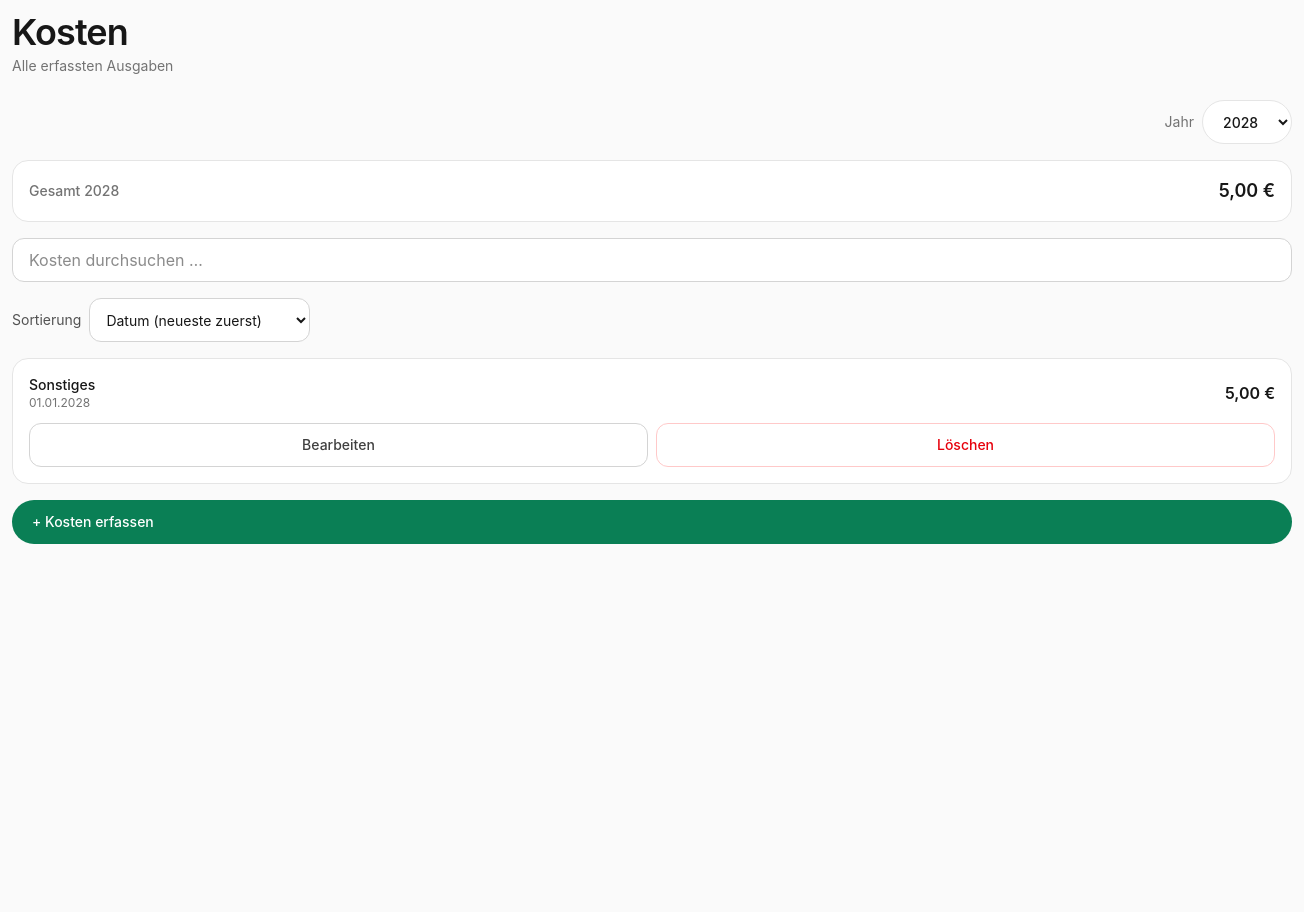
Test: CostsPage › shows a dedicated empty state for a year with no entries, distinct from the no-data-at-all state
Select "2028" in the dropdown labelled "Jahr": [1247, 122] box [1202,100,1292,144]
expect the text "Gesamt 2028" is shown: met, box [29,181,119,201]
Click the button "Löschen": [966, 445] box [656,423,1275,467]
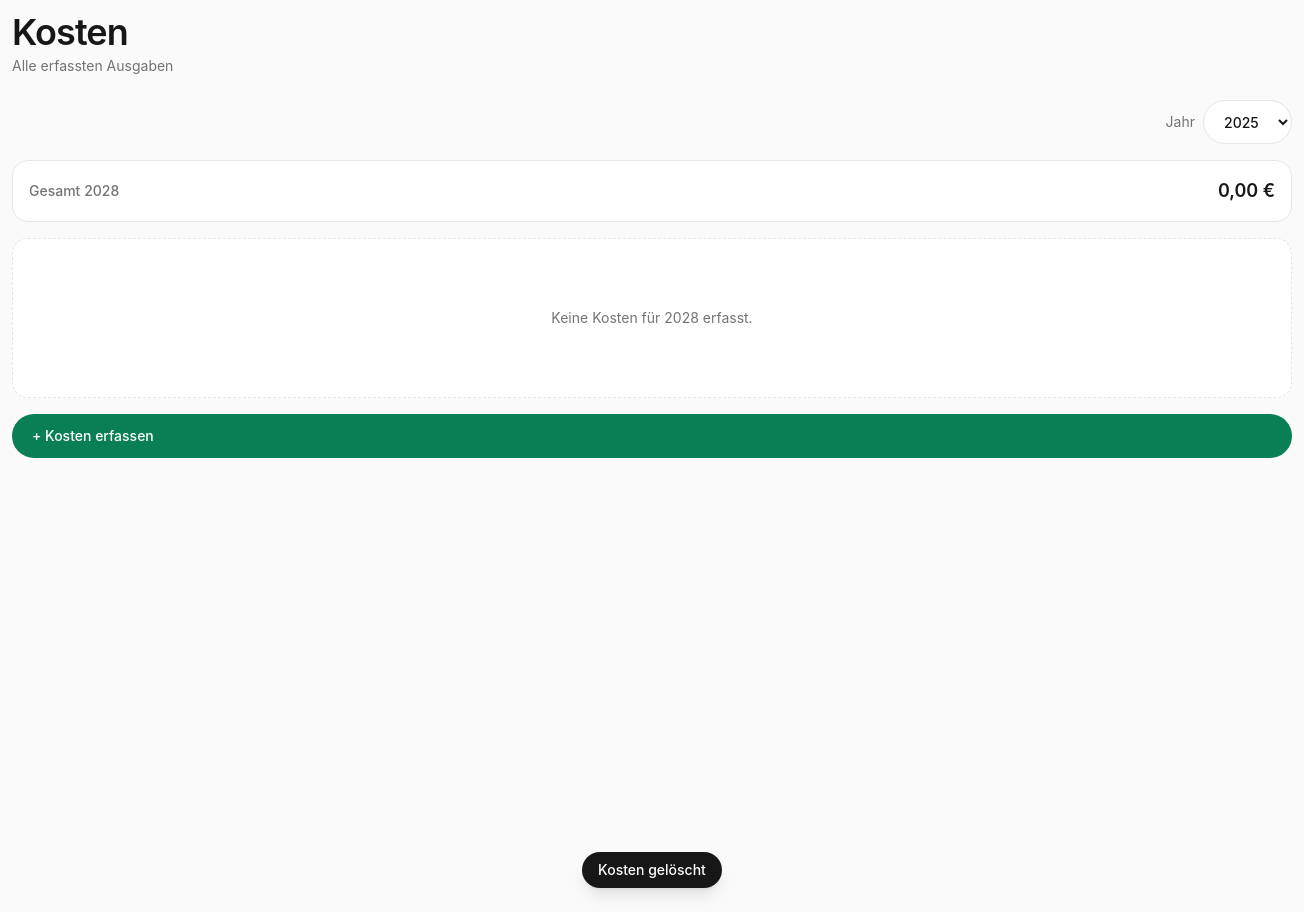
expect the text "Gesamt 2028" is shown: met, box [29,181,119,201]
expect the text "Keine Kosten für 2028 erfasst." is shown: met, box [551,308,753,328]
expect the text "0,00 €" is shown: met, box [1218,177,1275,205]
